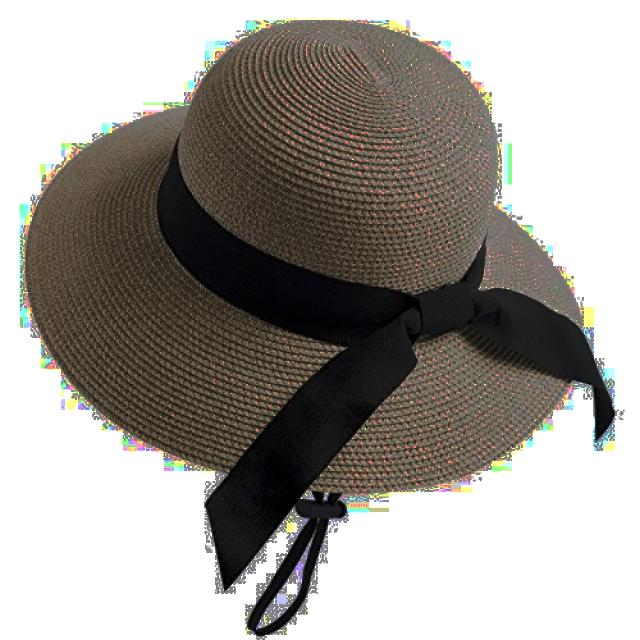TOPI: (17, 12, 594, 504)
